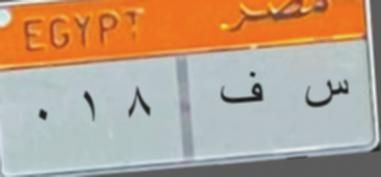0: (32, 94, 60, 132)
1: (77, 82, 104, 128)
8: (121, 81, 157, 124)
faa: (213, 70, 274, 107)
seen: (304, 67, 352, 118)
